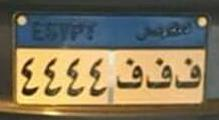4: (20, 52, 41, 101), (40, 53, 62, 97), (88, 54, 107, 101), (65, 56, 85, 100)
faa: (174, 53, 204, 94), (144, 56, 173, 93), (115, 56, 143, 92)
